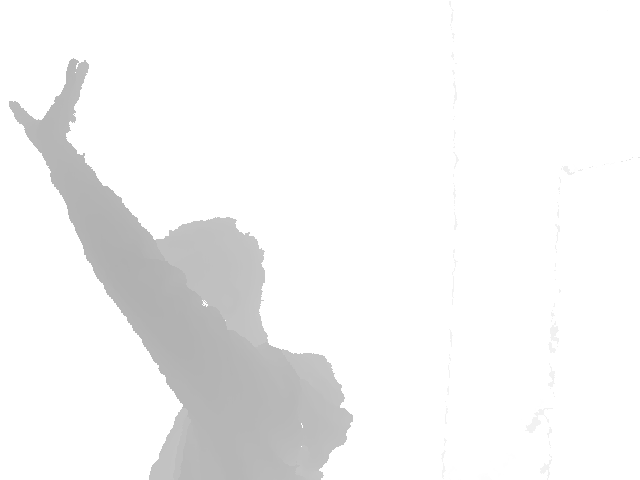hand: (7, 57, 90, 140)
head: (124, 215, 268, 352)
person: (7, 57, 354, 479)
